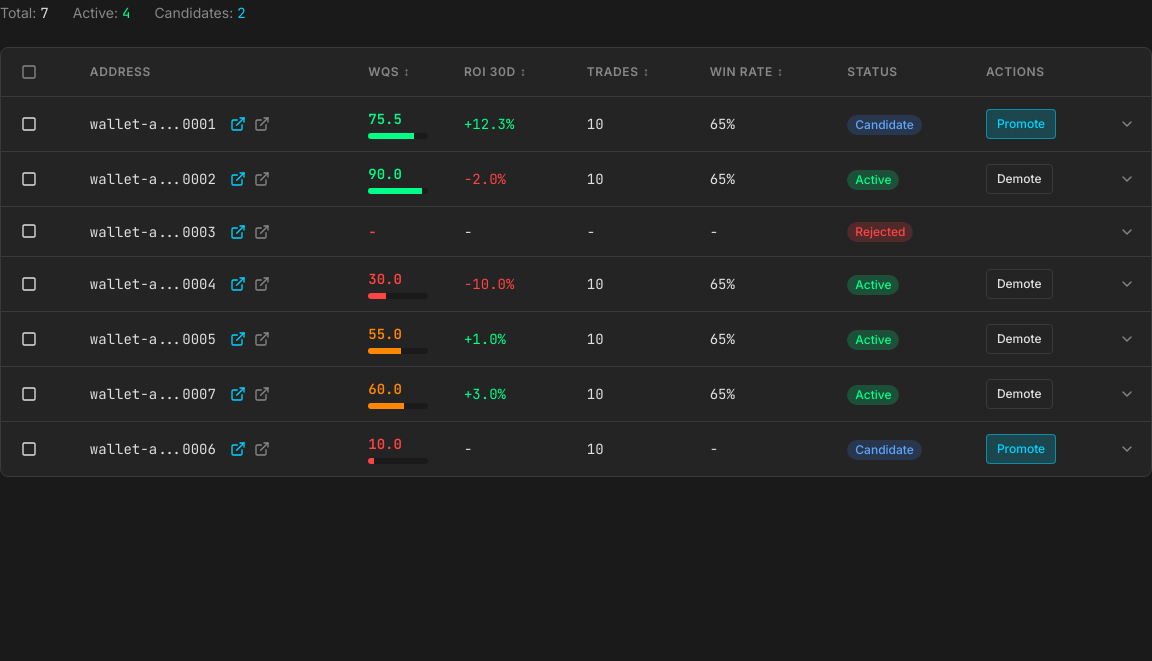
Test: Wallets › expands a wallet with null fields
Click the text "wallet-a...0006": {"x": 123, "y": 449} [90, 440, 216, 458]
(page scrolled)
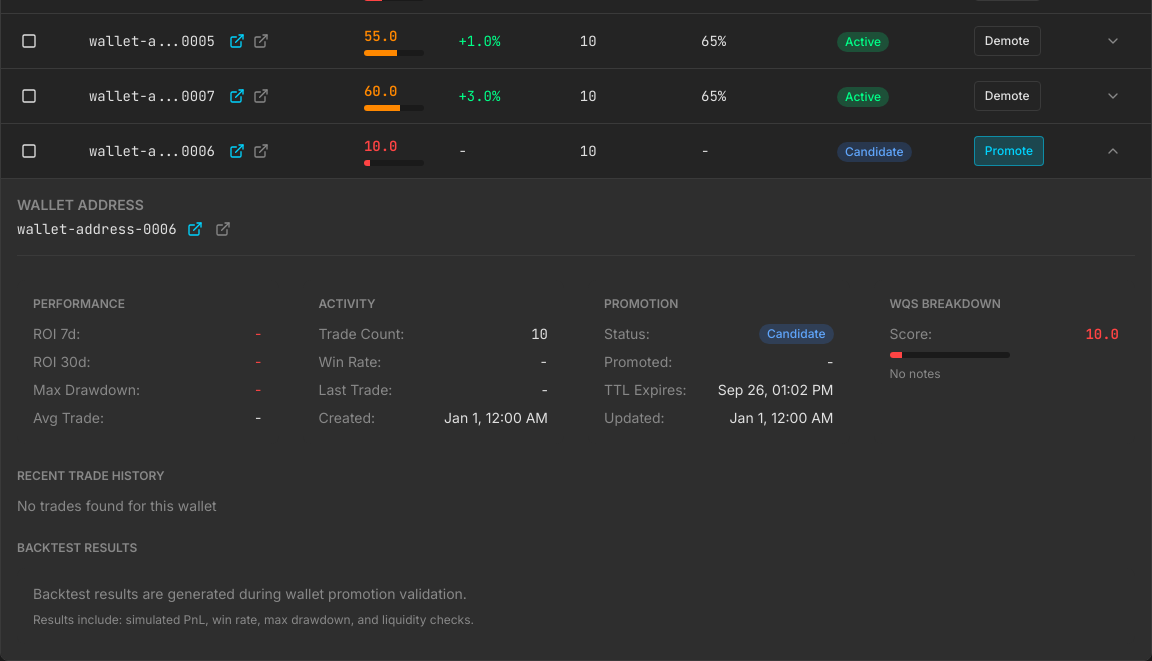
Result: the text "No notes" is shown at [890, 366, 940, 381]
